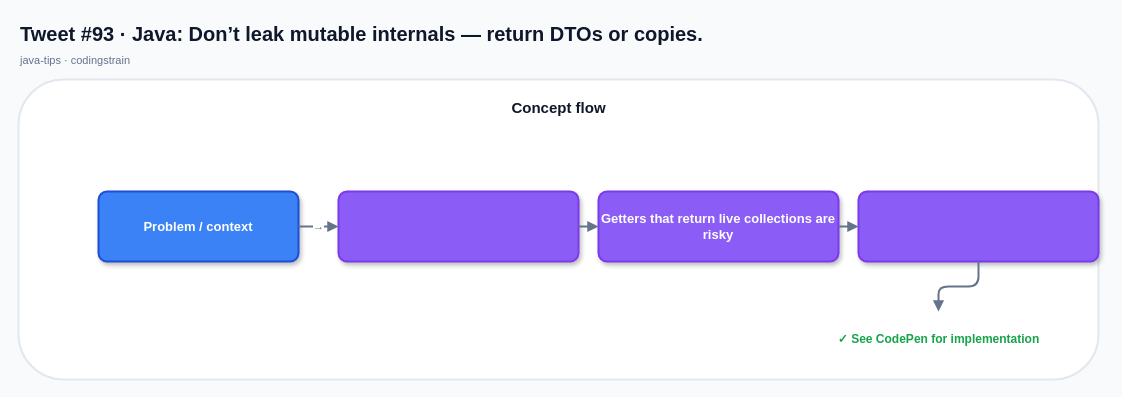
The diagram is 1122 pixels wide and 397 high, and some of its shapes have lost their labels. Each missing label, with the centre of its shape:
"Callers can change your state without you knowing" goes at point (979, 227).
"💡 Java: Don’t leak mutable internals — return DTOs or copies." goes at point (459, 227).
